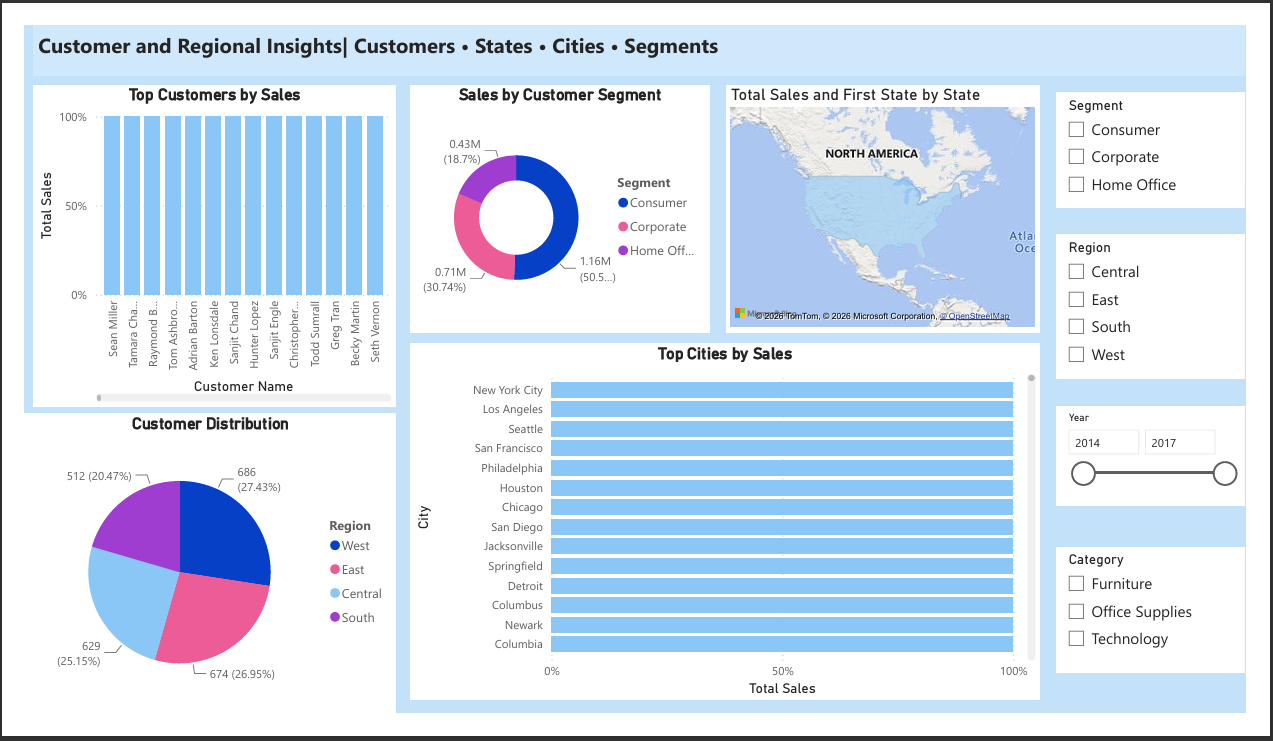

The page's visual inventory and layout, read from the dashboard file:
{"tool":"powerbi","page":{"name":"Customer and Regional Insights","canvas":[1280,720],"ordinal":2},"visuals":[{"type":"textbox","box":[9.4,0,1269.9,52.9],"z":0},{"type":"slicer","fields":{"Values":["DateTable.Year"]},"box":[1081,398.7,198.4,103.9],"z":1000},{"type":"slicer","fields":{"Values":["SuperstoreSales.Region"]},"box":[1081,219.2,198.4,151.2],"z":2000},{"type":"slicer","fields":{"Values":["SuperstoreSales.Category"]},"box":[1081,546.1,198.4,132.3],"z":3000},{"type":"slicer","fields":{"Values":["SuperstoreSales.Segment"]},"box":[1081,69.9,198.4,120.9],"z":4000},{"type":"donutChart","title":"Sales by Customer Segment","fields":{"Category":["SuperstoreSales.Segment"],"Y":["SuperstoreSales.Total Sales"]},"box":[404.4,62.4,313.7,258.9],"z":5000},{"type":"hundredPercentStackedColumnChart","title":"Top Customers by Sales","fields":{"Category":["SuperstoreSales.Customer Name"],"Y":["SuperstoreSales.Total Sales"]},"box":[9.4,62.4,379.8,336.4],"z":6000},{"type":"filledMap","fields":{"Category":["SuperstoreSales.State"],"Y":["SuperstoreSales.Total Sales"],"X":["Min(SuperstoreSales.State)"]},"box":[735.1,62.4,328.8,258.9],"z":7000},{"type":"hundredPercentStackedBarChart","title":"Top Cities by Sales","fields":{"Category":["SuperstoreSales.City"],"Y":["SuperstoreSales.Total Sales"]},"box":[404.4,332.6,659.5,374.2],"z":8000},{"type":"pieChart","title":"Customer Distribution","fields":{"Category":["SuperstoreSales.Region"],"Y":["SuperstoreSales.Total Customers"]},"box":[0,406.3,389.3,313.7],"z":9000}]}

Visuals, with their boxes on the page's 1280x720 design canvas (x1, y1, x2, y2). These are canvas units, not pixel positions in the 1273x741 screenshot, which may show the page scaled, cropped or inside an application window:
textbox: <region>9, 0, 1279, 53</region>
slicer - DateTable.Year: <region>1081, 399, 1279, 503</region>
slicer - SuperstoreSales.Region: <region>1081, 219, 1279, 370</region>
slicer - SuperstoreSales.Category: <region>1081, 546, 1279, 678</region>
slicer - SuperstoreSales.Segment: <region>1081, 70, 1279, 191</region>
"Sales by Customer Segment" donutChart: <region>404, 62, 718, 321</region>
"Top Customers by Sales" hundredPercentStackedColumnChart: <region>9, 62, 389, 399</region>
filledMap - SuperstoreSales.State x SuperstoreSales.Total Sales: <region>735, 62, 1064, 321</region>
"Top Cities by Sales" hundredPercentStackedBarChart: <region>404, 333, 1064, 707</region>
"Customer Distribution" pieChart: <region>0, 406, 389, 720</region>
